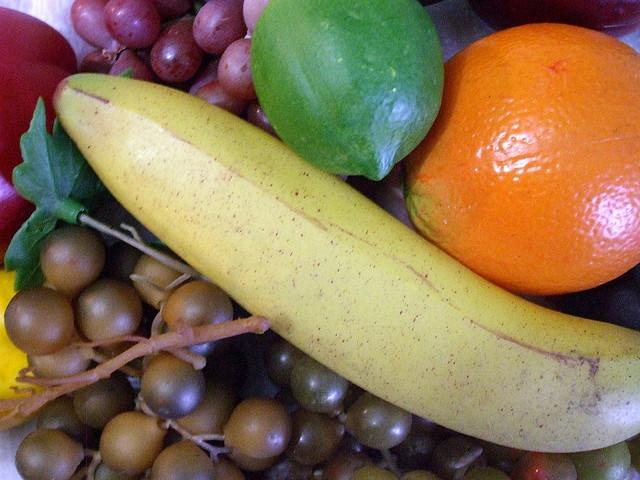apple: (0, 7, 78, 185), (468, 0, 640, 37)
banana: (53, 73, 639, 454)
grape: (224, 396, 294, 470), (75, 278, 143, 351), (4, 287, 74, 356), (100, 412, 170, 477), (140, 350, 205, 418), (42, 225, 106, 292), (346, 391, 412, 450), (284, 408, 346, 467), (15, 429, 84, 480), (290, 354, 350, 412), (73, 374, 136, 429), (162, 282, 234, 330), (27, 324, 91, 378), (150, 19, 204, 82), (132, 254, 192, 310), (37, 394, 96, 449), (170, 386, 232, 435), (193, 0, 248, 55), (102, 0, 160, 49), (566, 440, 632, 480), (151, 439, 215, 480), (72, 0, 120, 52), (218, 39, 257, 99), (266, 338, 306, 390), (510, 451, 578, 480), (193, 80, 247, 116), (108, 49, 161, 84), (431, 435, 483, 470), (245, 97, 282, 142), (321, 450, 376, 479), (152, 0, 196, 36), (258, 453, 314, 480), (398, 430, 433, 470), (80, 50, 116, 74), (274, 386, 302, 416), (243, 0, 270, 31), (212, 456, 246, 480), (462, 466, 511, 480), (349, 466, 397, 480), (488, 454, 517, 476), (398, 470, 441, 479)
lemon: (0, 270, 46, 400)
lime: (250, 4, 446, 182)
orange: (404, 22, 640, 299)
